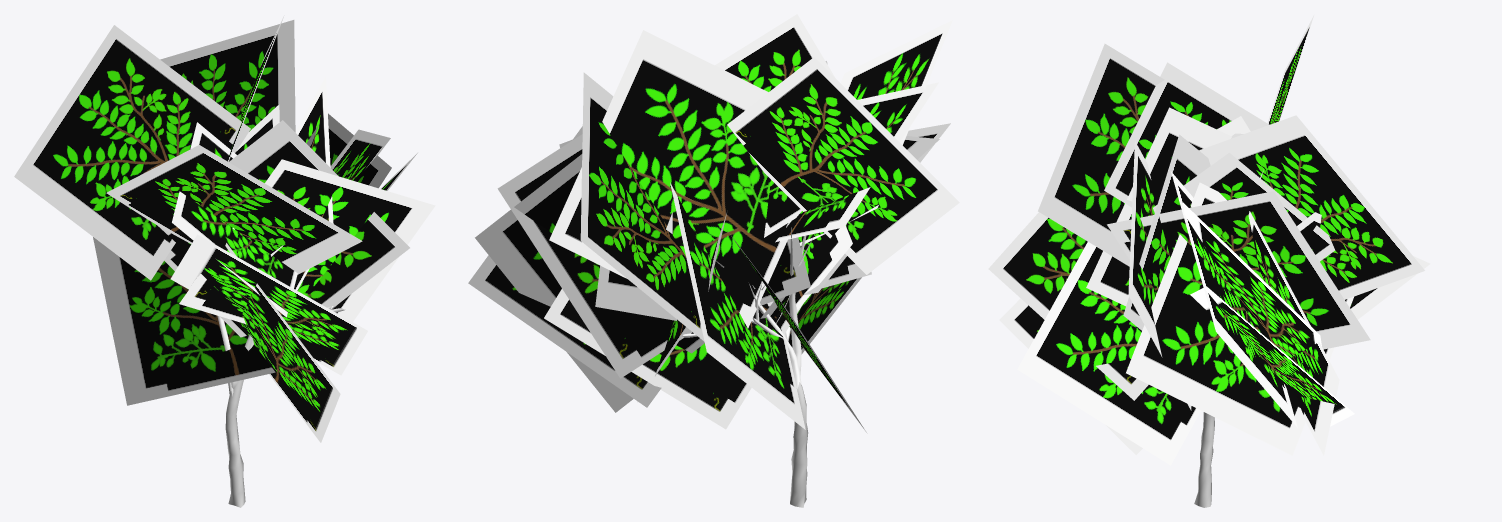
The model's file is tree_j.fbx.
The picture shows the model from 3 angles, left to right: view 1: azimuth 30°, elevation 25°; view 2: azimuth 150°, elevation 25°; view 3: azimuth 270°, elevation 25°; orthographic projection. The views are drawn at different scales.
Visible parts, largest first — view 1: tree_j; view 2: tree_j; view 3: tree_j.
Part boxes in pixels (box(x1,y1,x2,y2)): tree_j: box(14, 15, 435, 507); tree_j: box(468, 14, 959, 507); tree_j: box(988, 15, 1430, 507).
Size of the model in its own units: 21.88 by 23.51 by 23.25.
Materials: 2 (1 with a texture image).
